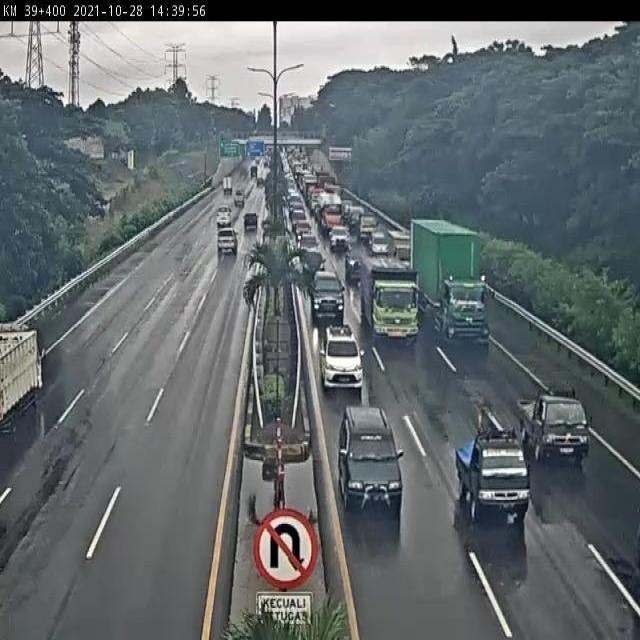big truck: (413, 218, 490, 346), (359, 250, 420, 342)
car: (337, 407, 404, 513), (453, 431, 532, 516), (516, 388, 590, 464), (318, 324, 365, 389), (310, 264, 344, 313), (388, 231, 416, 268), (344, 244, 366, 275), (366, 229, 391, 256), (302, 246, 326, 274), (355, 213, 377, 239), (216, 228, 237, 252), (215, 202, 235, 226), (329, 223, 348, 248), (240, 211, 260, 232)
